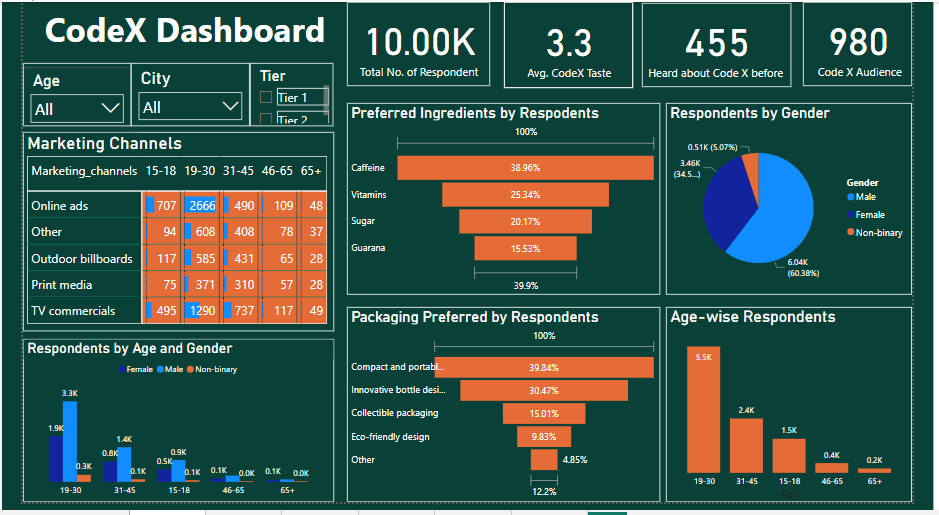

This screenshot's page, from the dashboard's own definition file:
{"tool":"powerbi","page":{"name":"Page 1","canvas":[1280,720],"ordinal":0},"visuals":[{"type":"pieChart","title":" Respondents by Gender","fields":{"Category":["dim_repondents.Gender"],"Y":["CountNonNull(fact_survey_responses.Consume_frequency)"]},"box":[925.9,145.4,354.2,276.5],"z":0},{"type":"columnChart","title":"Age-wise Respondents","fields":{"Category":["dim_repondents.Age"],"Y":["CountNonNull(fact_survey_responses.Consume_frequency)"]},"box":[925.9,439.2,354.2,280.8],"z":1000},{"type":"pivotTable","title":"Marketing Channels","fields":{"Rows":["fact_survey_responses.Marketing_channels"],"Columns":["dim_repondents.Age"],"Values":["CountNonNull(fact_survey_responses.Respondent_ID)"]},"box":[0,187.2,447.8,286.6],"z":2000},{"type":"funnel","title":"Packaging Preferred by Respondents","fields":{"Y":["CountNonNull(fact_survey_responses.Respondent_ID)"],"Category":["fact_survey_responses.Packaging_preference"]},"box":[466.6,439.2,450.7,280.8],"z":3000},{"type":"funnel","title":" Preferred Ingredients by Respodents","fields":{"Y":["CountNonNull(fact_survey_responses.Respondent_ID)"],"Category":["fact_survey_responses.Ingredients_expected"]},"box":[466.6,145.4,450.7,276.5],"z":4000},{"type":"card","fields":{"Values":["fact_survey_responses.CodeX Average"]},"box":[692.6,0,185.8,123.8],"z":5000},{"type":"textbox","box":[0,0,466.6,87.8],"z":6000},{"type":"slicer","fields":{"Values":["dim_repondents.Age"]},"box":[0,87.8,155.5,90.7],"z":7000},{"type":"slicer","fields":{"Values":["dim_cities.City"]},"box":[155.5,87.8,171.4,90.7],"z":8000},{"type":"slicer","fields":{"Values":["dim_cities.Tier"]},"box":[326.9,87.8,119.5,90.7],"z":9000},{"type":"card","fields":{"Values":["CountNonNull(dim_repondents.Respondent_ID)"]},"box":[466.6,0,205.9,121],"z":10000},{"type":"card","fields":{"Values":["fact_survey_responses.CodeX Audience"]},"box":[891.4,1.4,214.6,121],"z":11000},{"type":"card","fields":{"Values":["fact_survey_responses.CodeX"]},"box":[1123.2,0,157,121],"z":12000},{"type":"clusteredColumnChart","title":"Respondents by Age and Gender","fields":{"Y":["CountNonNull(fact_survey_responses.Respondent_ID)"],"Category":["dim_repondents.Age"],"Series":["dim_repondents.Gender"]},"box":[0,485.3,447.8,234.7],"z":13000}]}

Visuals, with their boxes in screenshot pixels (x1, y1, x2, y2), scaled from the page's 1280x720 canvas onto the 939x515 screenshot:
" Respondents by Gender" pieChart: (679, 104, 938, 302)
"Age-wise Respondents" columnChart: (679, 314, 938, 514)
"Marketing Channels" pivotTable: (0, 134, 329, 339)
"Packaging Preferred by Respondents" funnel: (342, 314, 673, 514)
" Preferred Ingredients by Respodents" funnel: (342, 104, 673, 302)
card - fact_survey_responses.CodeX Average: (508, 0, 644, 89)
textbox: (0, 0, 342, 63)
slicer - dim_repondents.Age: (0, 63, 114, 128)
slicer - dim_cities.City: (114, 63, 240, 128)
slicer - dim_cities.Tier: (240, 63, 327, 128)
card - CountNonNull(dim_repondents.Respondent_ID): (342, 0, 493, 87)
card - fact_survey_responses.CodeX Audience: (654, 1, 811, 88)
card - fact_survey_responses.CodeX: (824, 0, 938, 87)
"Respondents by Age and Gender" clusteredColumnChart: (0, 347, 329, 514)
